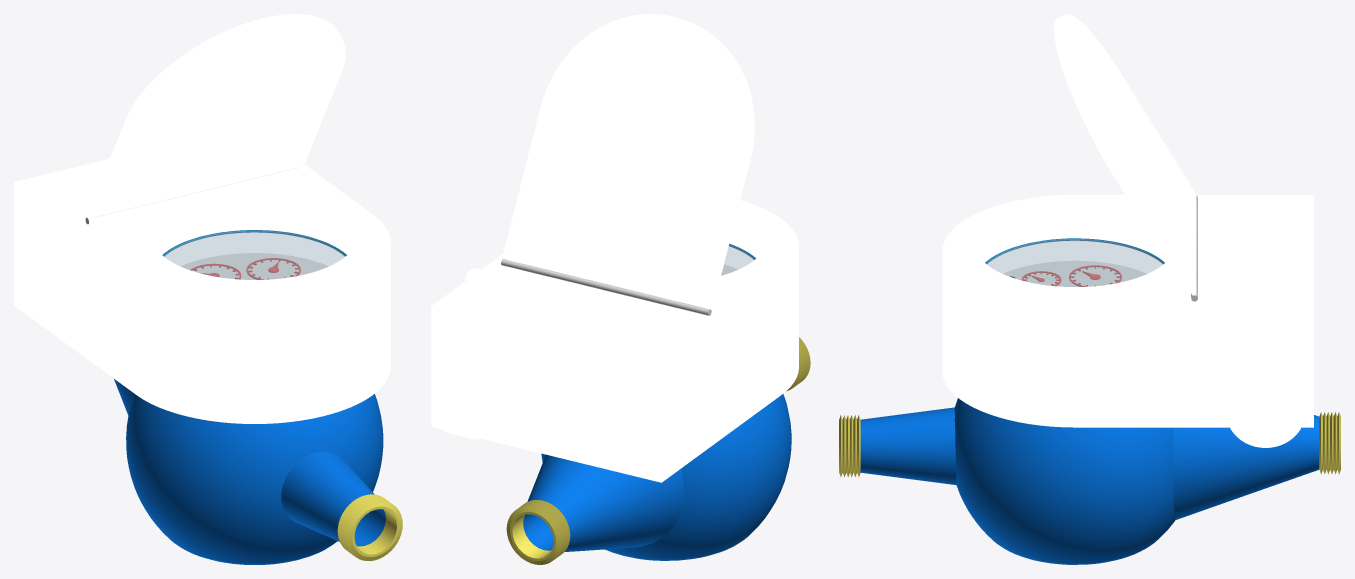
File: smart-water-meter.gltf
3 renders of one model, left to right at view 1: azimuth 30°, elevation 25°; view 2: azimuth 150°, elevation 25°; view 3: azimuth 270°, elevation 25°, orthographic. The views are drawn at different scales.
Parts seen in each view (by area): view 1: 连接的实心几何图形 [257119], 连接的实心几何图形 [256716], 连接的实心几何图形 [257195], 连接的实心几何图形 [257122], 拉伸 [256687], 连接的实心几何图形 [257196], 连接的实心几何图形 [257197], 拉伸 [256719], 放样 [256672]; view 2: 连接的实心几何图形 [257119], 连接的实心几何图形 [256716], 连接的实心几何图形 [257195], 连接的实心几何图形 [257204], 连接的实心几何图形 [257122], 连接的实心几何图形 [257203], 拉伸 [256692], 连接的实心几何图形 [257094], 拉伸 [256687]; view 3: 连接的实心几何图形 [257119], 连接的实心几何图形 [257195], 连接的实心几何图形 [256716], 连接的实心几何图形 [257204], 连接的实心几何图形 [257122], 连接的实心几何图形 [257196], 拉伸 [256687], 拉伸 [256719], 连接的实心几何图形 [257094], 连接的实心几何图形 [257203], 连接的实心几何图形 [257197].
Boxes of the visible parts, x1,y1,x2,y2 form: 连接的实心几何图形 [257119]: (14, 158, 390, 423); 连接的实心几何图形 [256716]: (86, 14, 345, 219); 连接的实心几何图形 [257195]: (126, 394, 383, 564); 连接的实心几何图形 [257122]: (89, 168, 377, 294); 拉伸 [256687]: (164, 230, 345, 279); 连接的实心几何图形 [257196]: (281, 451, 385, 546); 连接的实心几何图形 [257197]: (337, 494, 402, 560); 拉伸 [256719]: (181, 253, 328, 279); 放样 [256672]: (162, 230, 346, 256); 连接的实心几何图形 [257119]: (431, 200, 798, 482); 连接的实心几何图形 [256716]: (502, 14, 754, 309); 连接的实心几何图形 [257195]: (541, 394, 791, 560); 连接的实心几何图形 [257204]: (523, 454, 684, 551); 连接的实心几何图形 [257122]: (512, 201, 785, 314); 连接的实心几何图形 [257203]: (506, 500, 570, 564); 拉伸 [256692]: (501, 259, 711, 315); 连接的实心几何图形 [257094]: (442, 268, 485, 439); 拉伸 [256687]: (721, 244, 754, 275); 连接的实心几何图形 [257119]: (942, 195, 1313, 427); 连接的实心几何图形 [257195]: (954, 398, 1175, 564); 连接的实心几何图形 [256716]: (1054, 14, 1195, 295); 连接的实心几何图形 [257204]: (1173, 415, 1319, 519); 连接的实心几何图形 [257122]: (955, 194, 1191, 301); 连接的实心几何图形 [257196]: (860, 407, 956, 485); 拉伸 [256687]: (986, 239, 1163, 286); 拉伸 [256719]: (1003, 260, 1146, 286); 连接的实心几何图形 [257094]: (1229, 250, 1306, 447); 连接的实心几何图形 [257203]: (1319, 412, 1340, 474); 连接的实心几何图形 [257197]: (839, 415, 860, 477).
Bounding box in the file's own units: 0.2 × 0.4215 × 0.3779.
